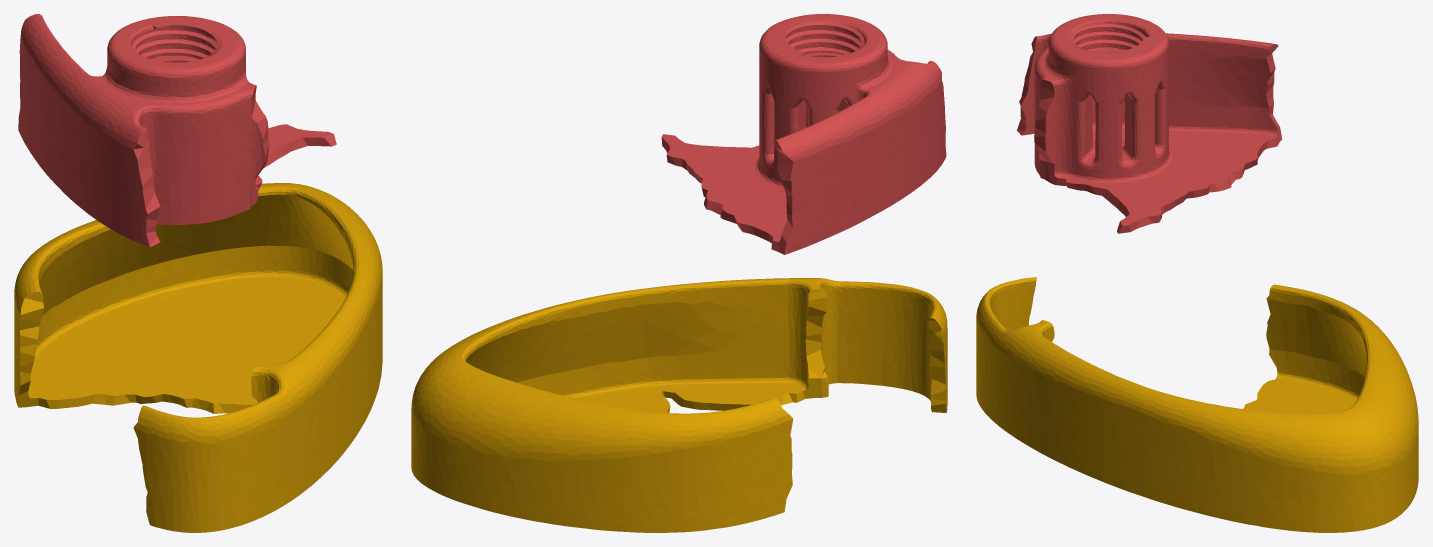
Rendered from fractured_61_2pcs_transformed.glb.
The picture shows the model from 3 angles, left to right: view 1: azimuth 30°, elevation 25°; view 2: azimuth 150°, elevation 25°; view 3: azimuth 270°, elevation 25°; orthographic projection. The views are drawn at different scales.
Visible parts, largest first — view 1: piece_0.obj, piece_1.obj; view 2: piece_0.obj, piece_1.obj; view 3: piece_0.obj, piece_1.obj.
Part boxes in pixels (x1,y1,x2,y2): piece_0.obj: (14, 183, 382, 532); piece_1.obj: (18, 14, 336, 247); piece_0.obj: (411, 278, 947, 532); piece_1.obj: (661, 14, 946, 254); piece_0.obj: (976, 277, 1418, 532); piece_1.obj: (1016, 14, 1281, 233).
Bounding box in the file's own units: 0.8951 × 0.9162 × 1.
